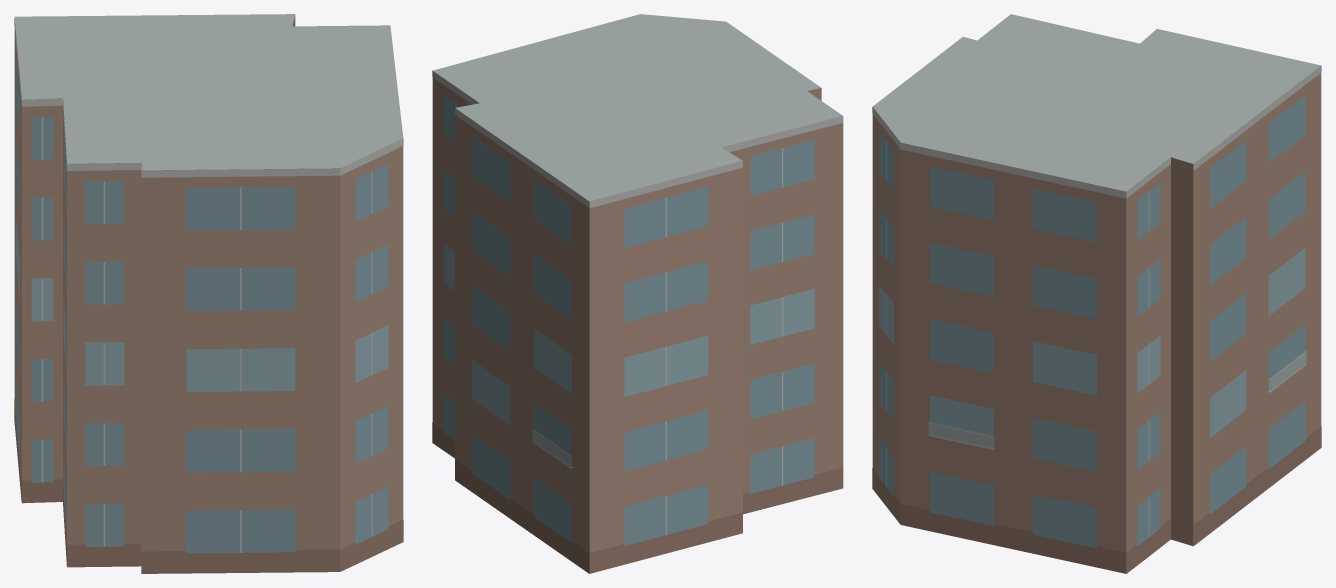
Rendered from survey-upis-32878422.glb.
3 views of the same model, side by side, from view 1: azimuth 30°, elevation 25°; view 2: azimuth 150°, elevation 25°; view 3: azimuth 270°, elevation 25° (orthographic). The views are drawn at different scales.
Parts seen in each view (by area): view 1: survey-upis-32878422.tmp; view 2: survey-upis-32878422.tmp; view 3: survey-upis-32878422.tmp.
Boxes of the visible parts, <box> form: survey-upis-32878422.tmp: <box>14,14,403,573</box>; survey-upis-32878422.tmp: <box>432,14,843,573</box>; survey-upis-32878422.tmp: <box>872,14,1321,573</box>.
Size of the model in its own units: 13.36 by 13.4 by 14.27.
